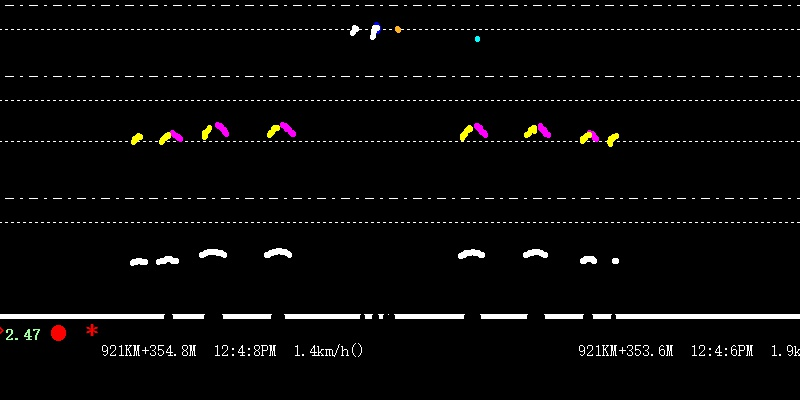circle: (48, 324, 67, 345)
face_1: (393, 24, 403, 41), (347, 22, 359, 36)
face_down: (473, 25, 480, 46)
face_s: (368, 18, 382, 42)
star: (84, 322, 98, 340)
